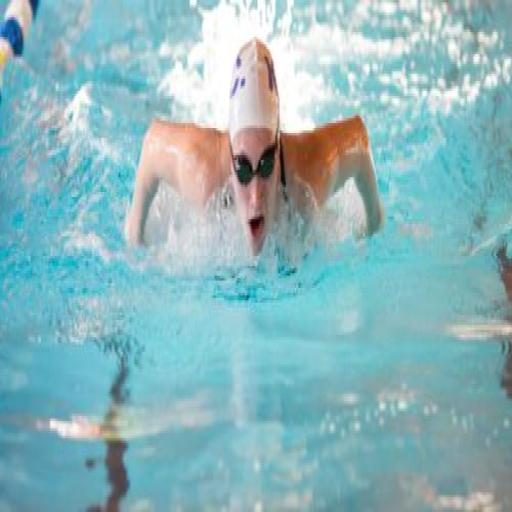swimming: (123, 34, 385, 271)
